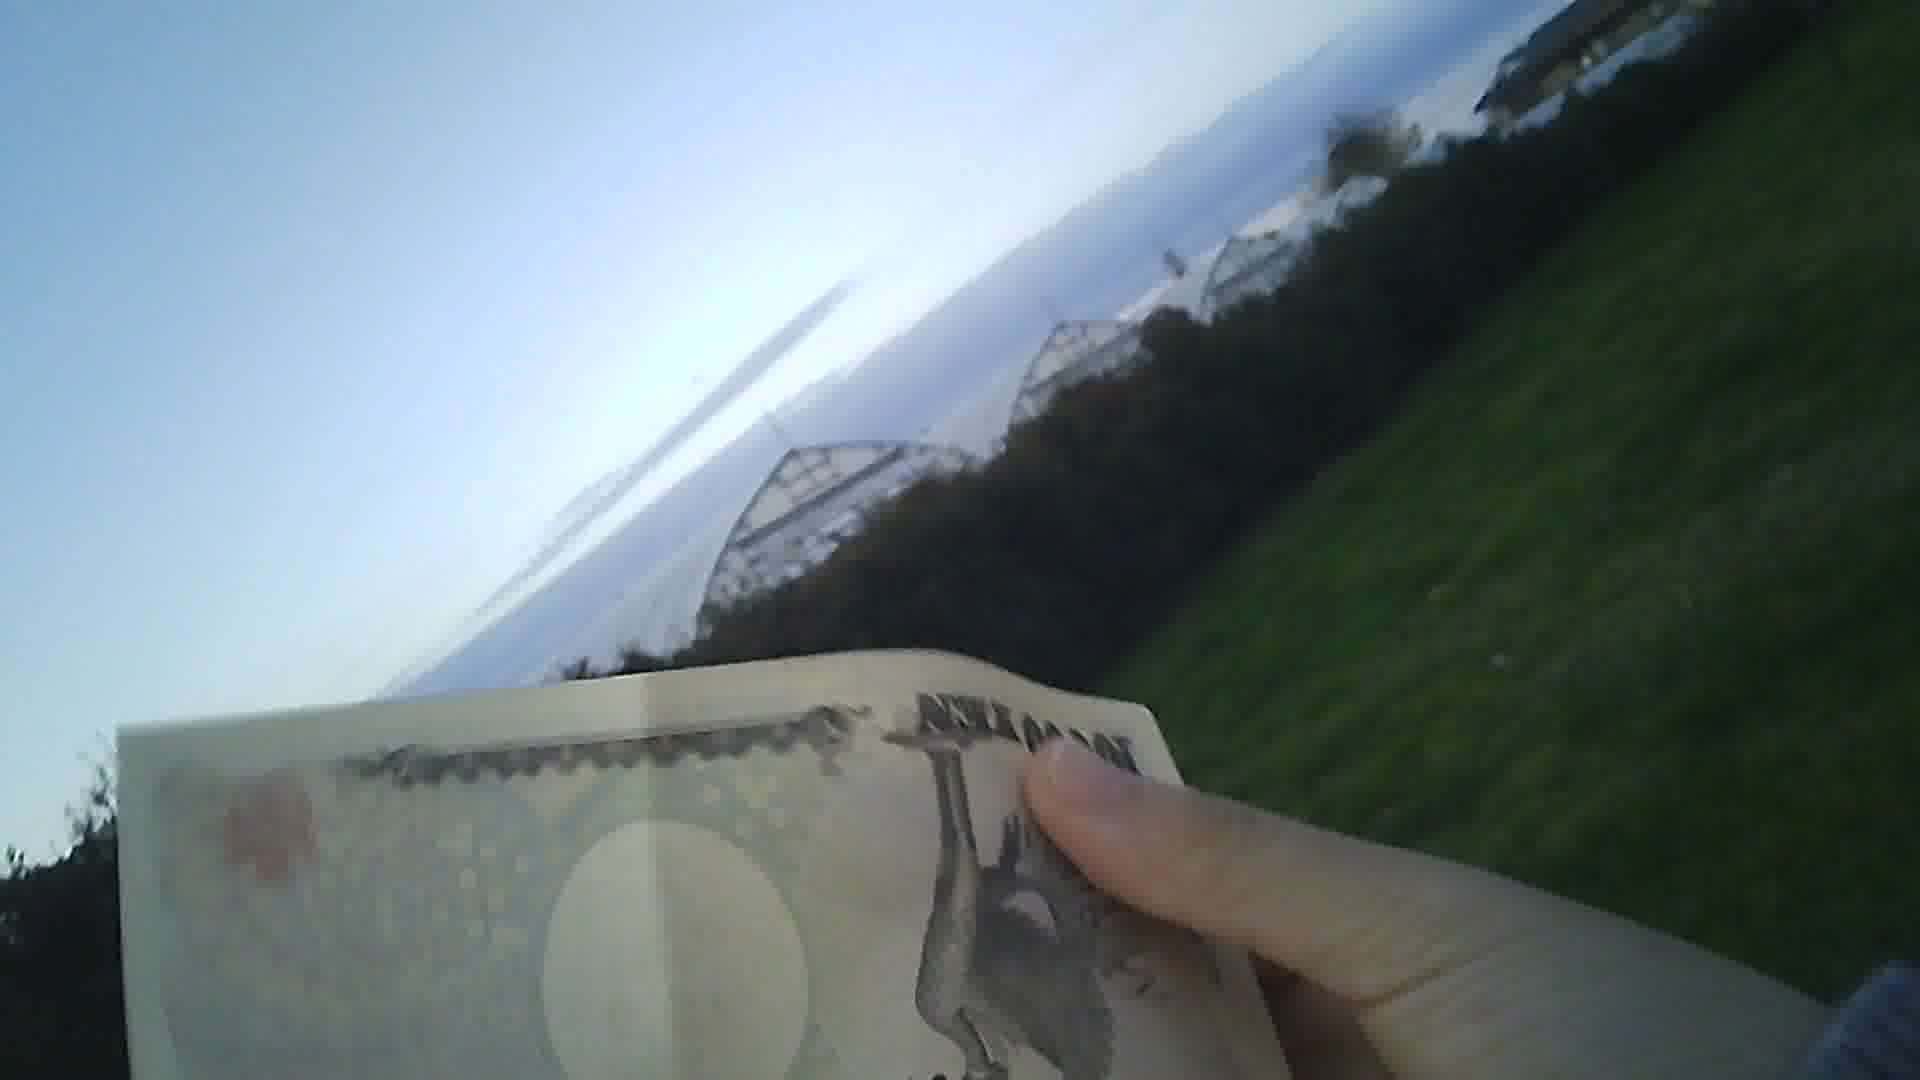10,000 Yen: (104, 636, 1317, 1077)
